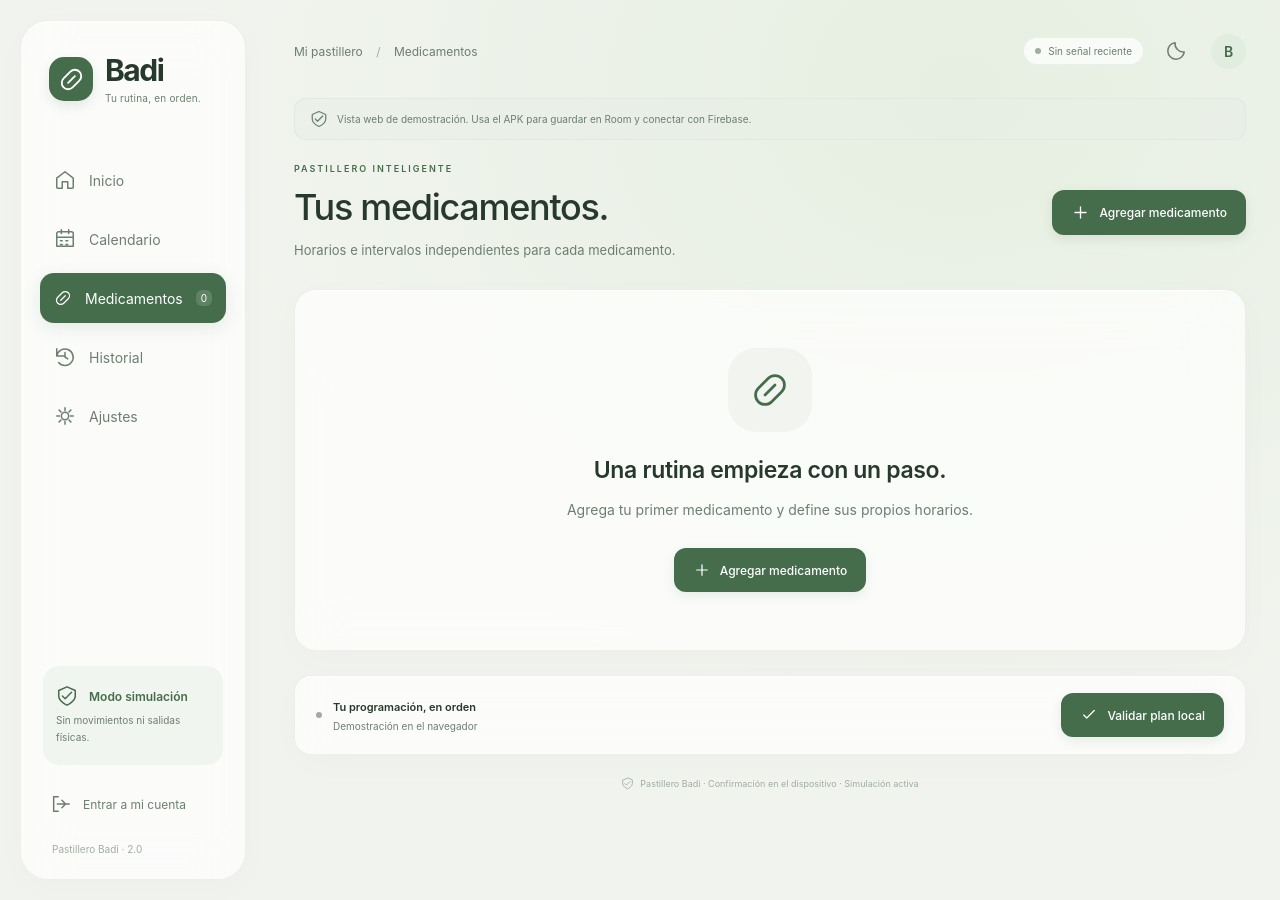
Test: guarda un medicamento desde el formulario
Check: the heading "Tus medicamentos." is shown, box [294,185,608,229]
Click the button "Agregar medicamento" in the row of "Tus medicamentos." at (1149, 212), box [1052,190,1246,235]
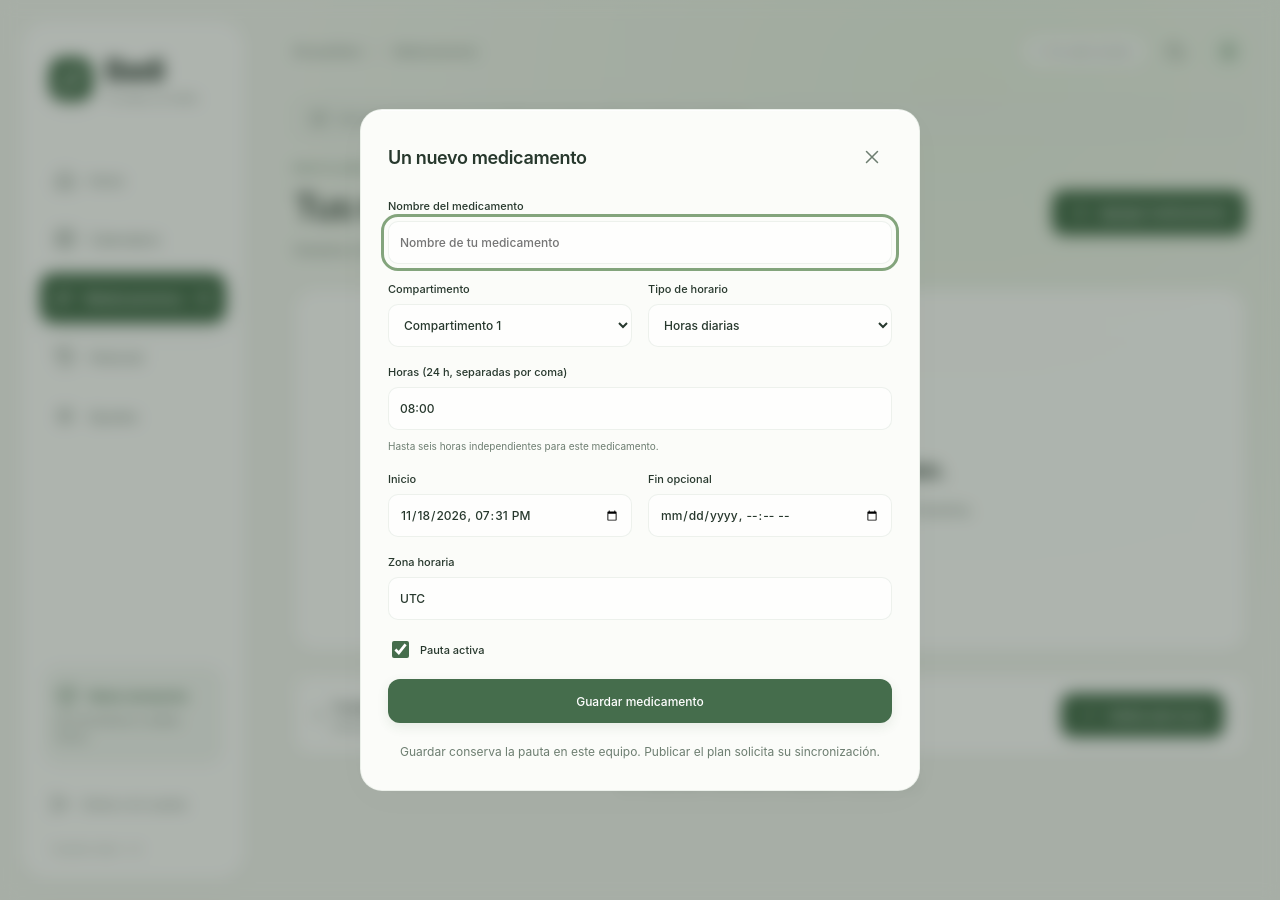
Type "Pauta de ensayo" into the field labelled "Nombre del medicamento" at (640, 243), box [388,221,892,264]
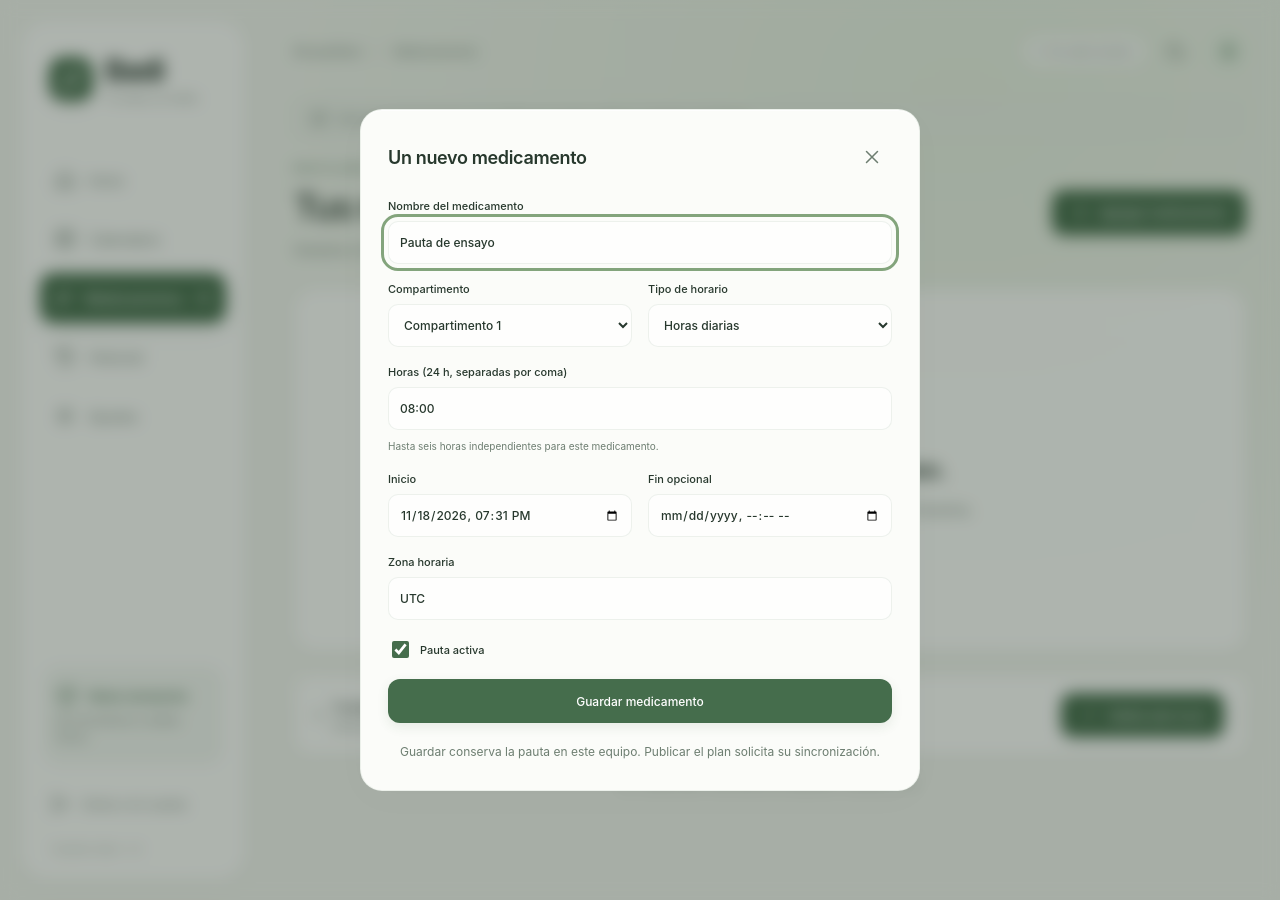
Click the button "Guardar medicamento" at (640, 701), box [388,679,892,723]
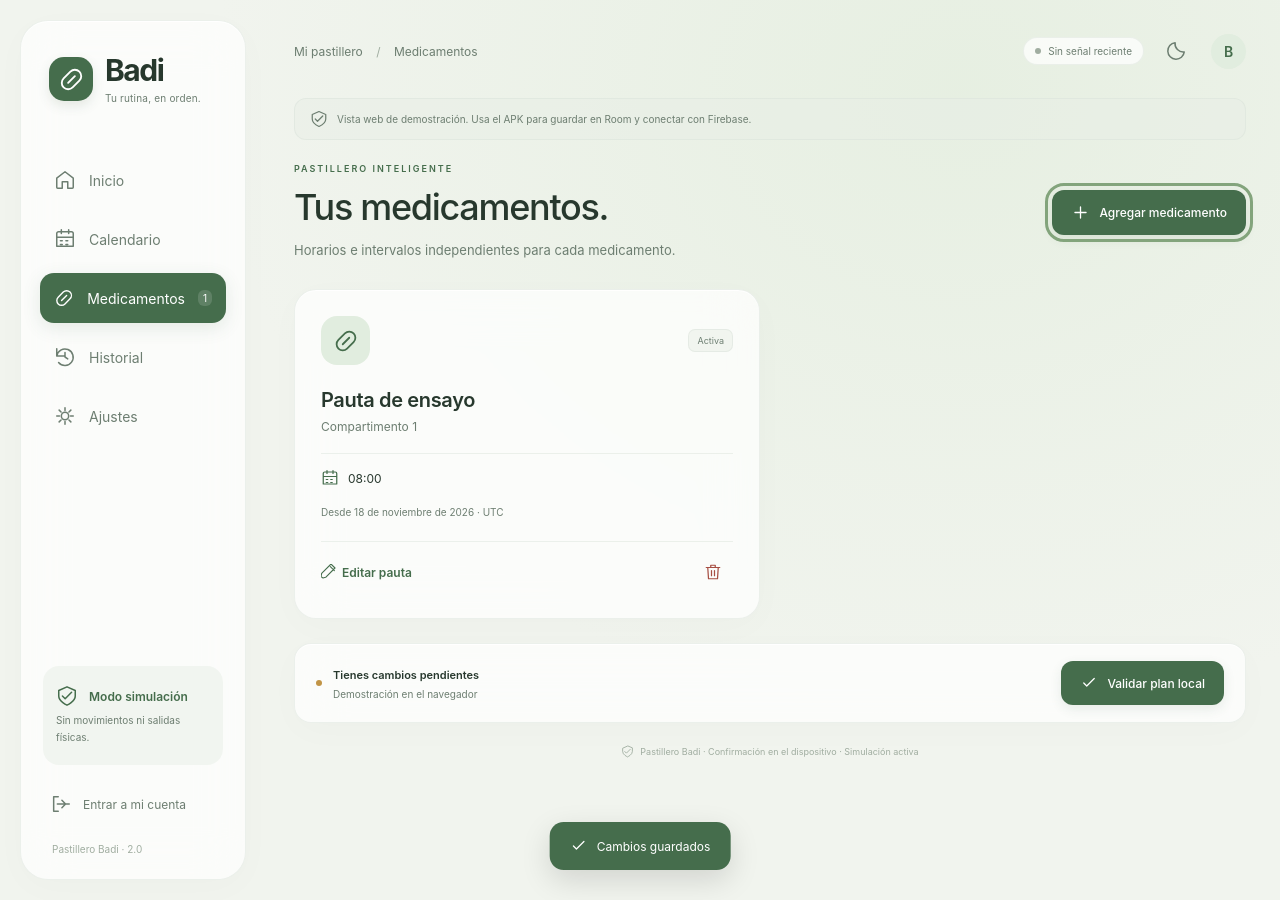
Check: the heading "Pauta de ensayo" is shown, box [321,388,475,412]
